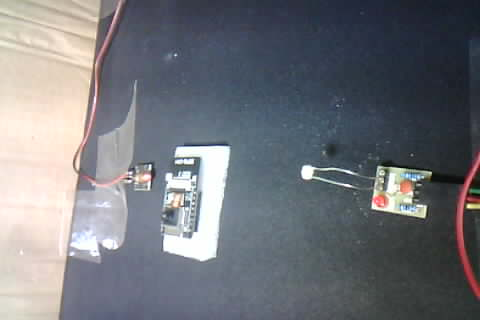esp32: (157, 145, 224, 260)
